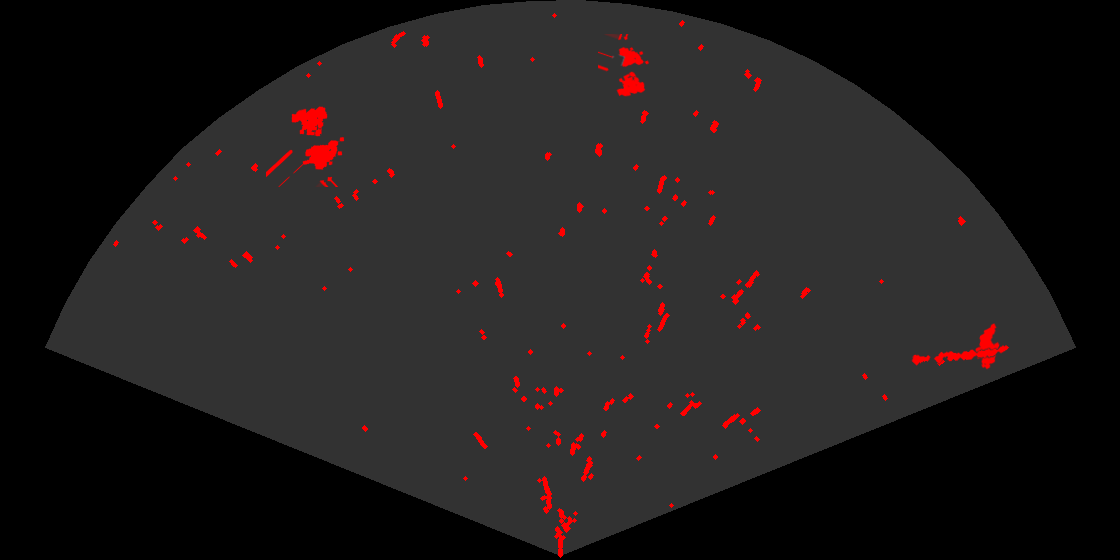AUV: (974, 322, 1001, 371)
cage: (266, 105, 346, 187), (598, 34, 651, 98)
chain: (909, 344, 1011, 367)
